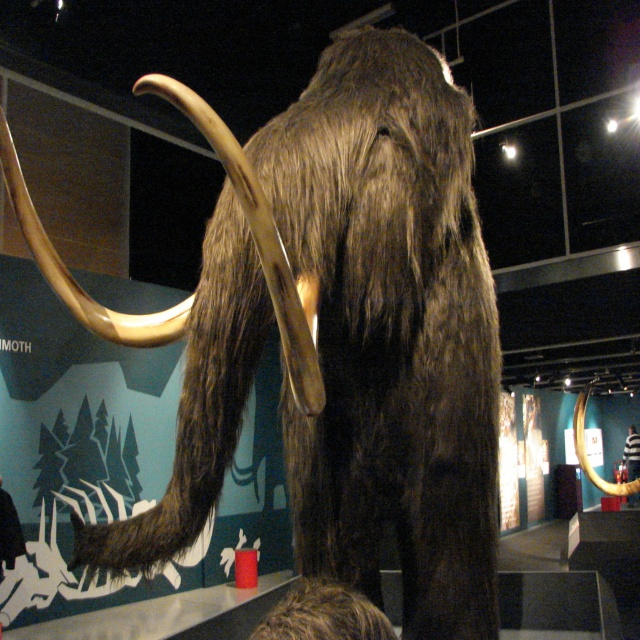Elephant: (0, 24, 507, 640)
